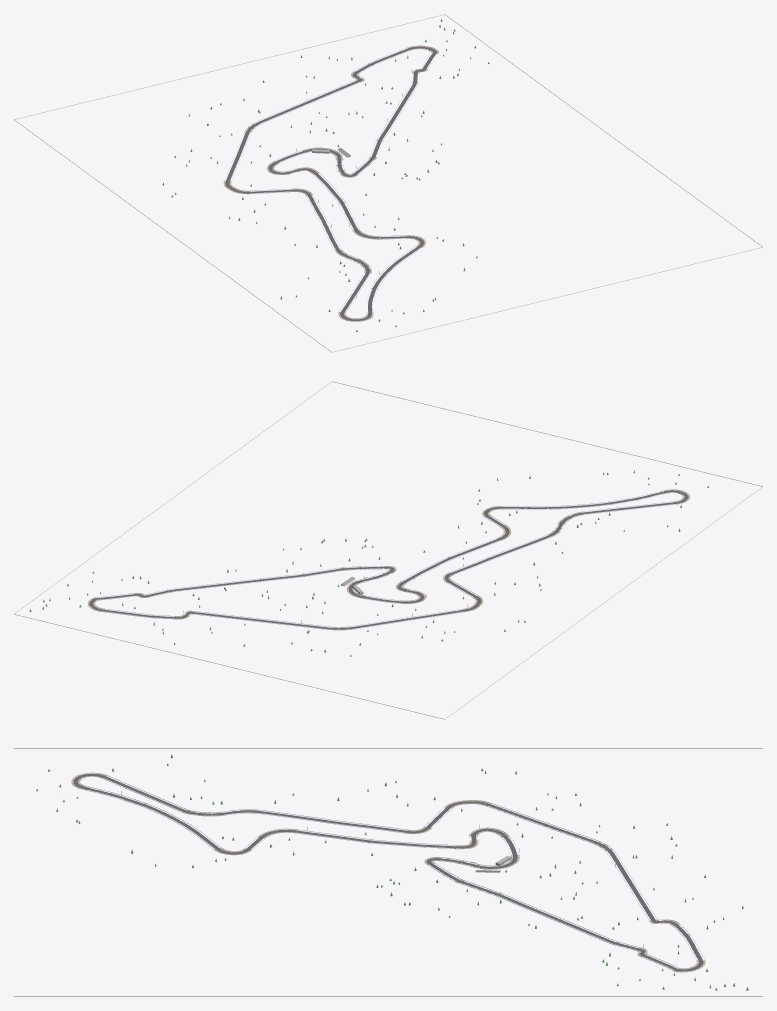
File: nurburgring.glb
The picture shows the model from 3 angles, top to bottom: view 1: azimuth 30°, elevation 25°; view 2: azimuth 150°, elevation 25°; view 3: azimuth 270°, elevation 25°; orthographic projection. The views are drawn at different scales.
Visible parts, largest first — view 1: nurburgring.tarmac, nurburgring.barrier, nurburgring.gravel, nurburgring.foliage; view 2: nurburgring.barrier, nurburgring.tarmac, nurburgring.gravel, nurburgring.foliage; view 3: nurburgring.tarmac, nurburgring.barrier, nurburgring.gravel, nurburgring.foliage.
Part boxes in pixels (<box>): nurburgring.tarmac: <box>225,46,437,320</box>; nurburgring.barrier: <box>14,14,762,352</box>; nurburgring.gravel: <box>223,46,439,321</box>; nurburgring.foliage: <box>162,19,489,331</box>; nurburgring.barrier: <box>14,381,762,719</box>; nurburgring.tarmac: <box>89,490,688,629</box>; nurburgring.gravel: <box>87,489,690,630</box>; nurburgring.foliage: <box>29,470,708,656</box>; nurburgring.tarmac: <box>73,774,703,971</box>; nurburgring.barrier: <box>14,748,762,996</box>; nurburgring.gravel: <box>71,773,705,972</box>; nurburgring.foliage: <box>36,754,748,990</box>.
Bounding box in the file's own units: 1427 × 12.5 × 1823.
